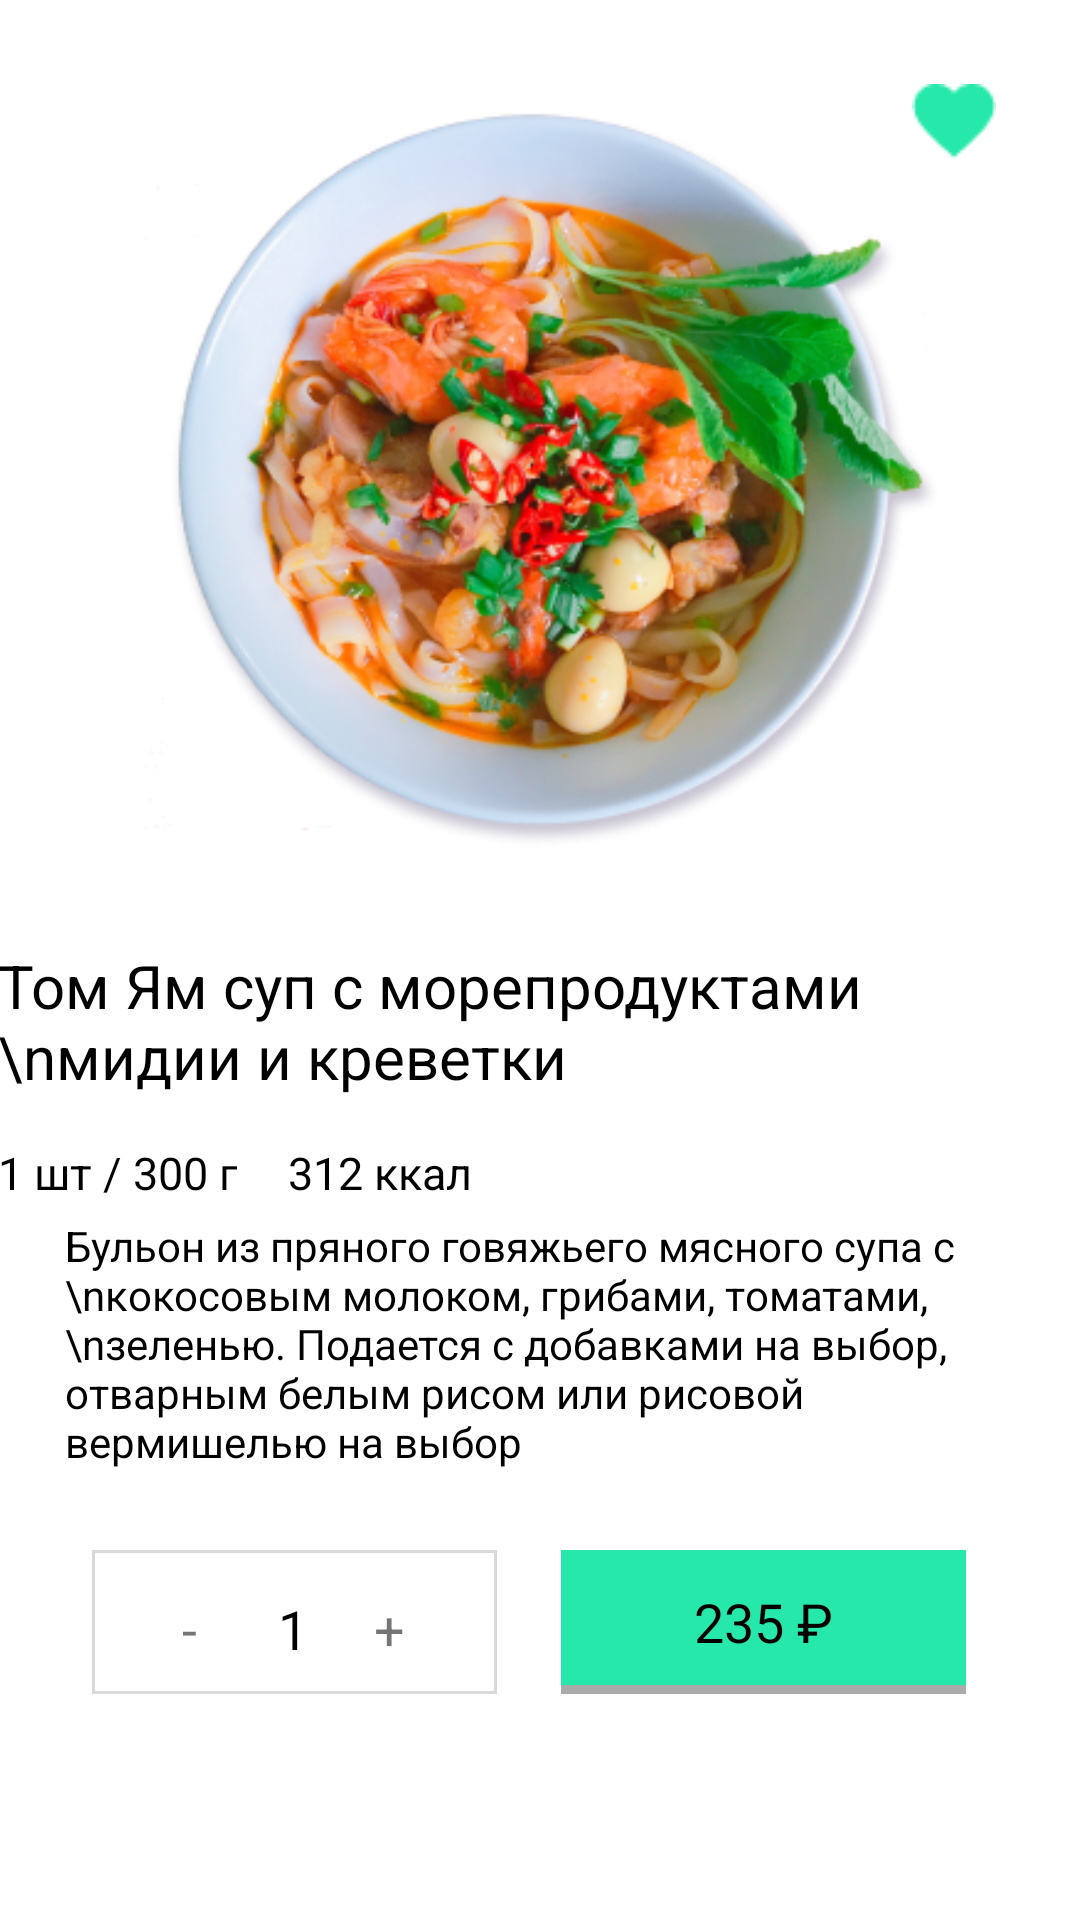

Icon click points for this 1080px×1920px phone screenshot, format (x=x, y=y):
heard: (x=954, y=121)
